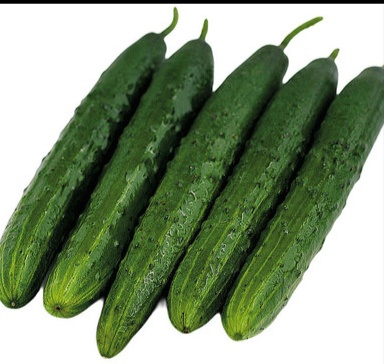cucumber: (99, 33, 286, 353), (181, 46, 339, 334), (53, 30, 210, 313), (1, 25, 157, 305), (235, 75, 382, 340)
